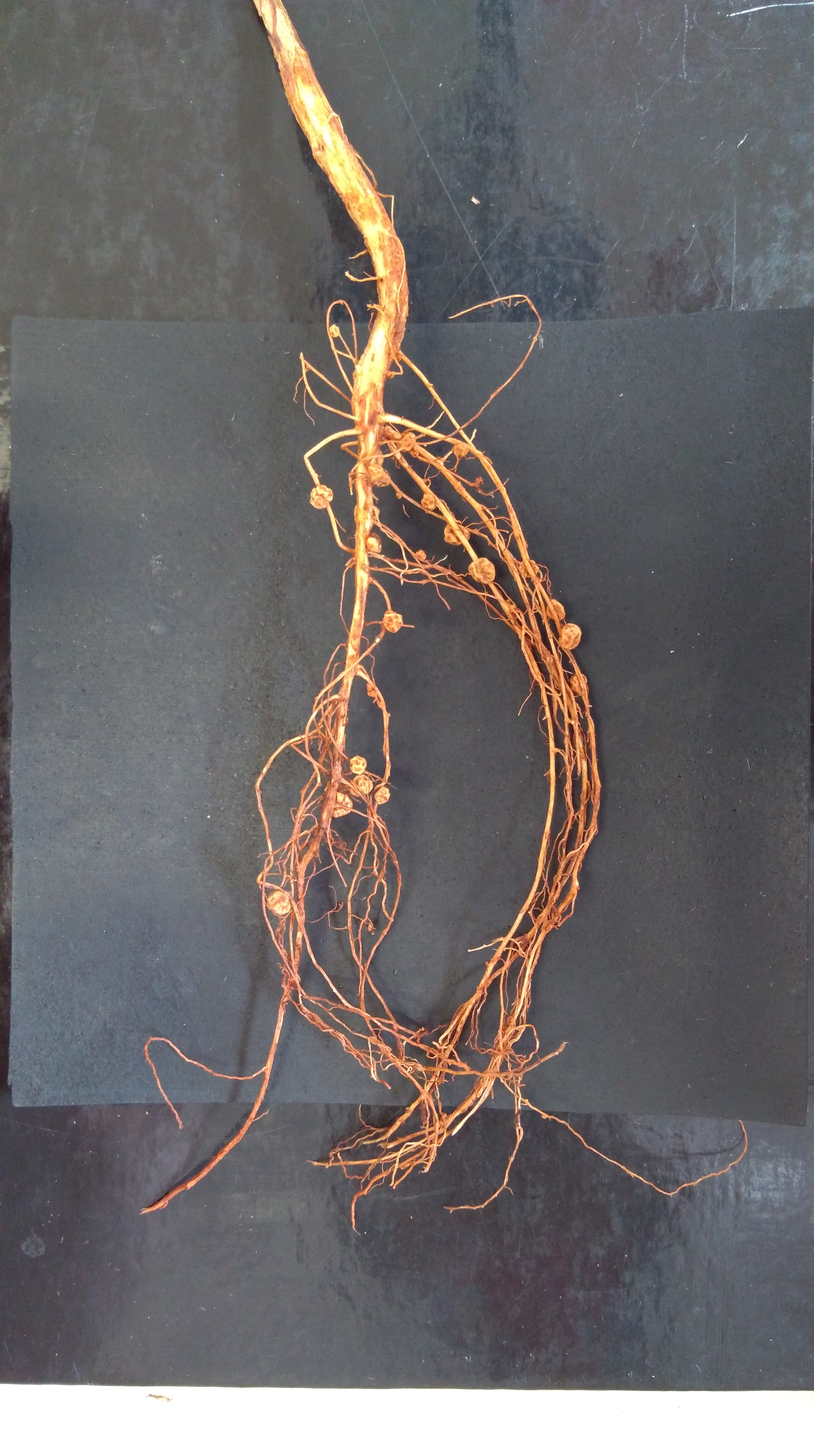nodule: (468, 558, 495, 584), (266, 889, 290, 916), (558, 623, 582, 649), (444, 523, 470, 546), (332, 791, 353, 819), (310, 485, 333, 509), (368, 464, 391, 488), (350, 774, 373, 796), (383, 610, 403, 633), (570, 673, 589, 696), (546, 599, 565, 621), (354, 505, 380, 521), (396, 432, 416, 451), (519, 559, 539, 578), (350, 755, 367, 775), (366, 533, 382, 553), (374, 787, 390, 804), (421, 493, 436, 510), (370, 450, 384, 467), (454, 443, 469, 456), (367, 683, 378, 697), (506, 599, 517, 613), (329, 324, 339, 337), (409, 447, 419, 458), (416, 549, 426, 560), (475, 476, 483, 488), (392, 353, 401, 362), (386, 371, 395, 379), (507, 1015, 513, 1026), (395, 452, 401, 460), (368, 922, 372, 932), (396, 493, 402, 499)
